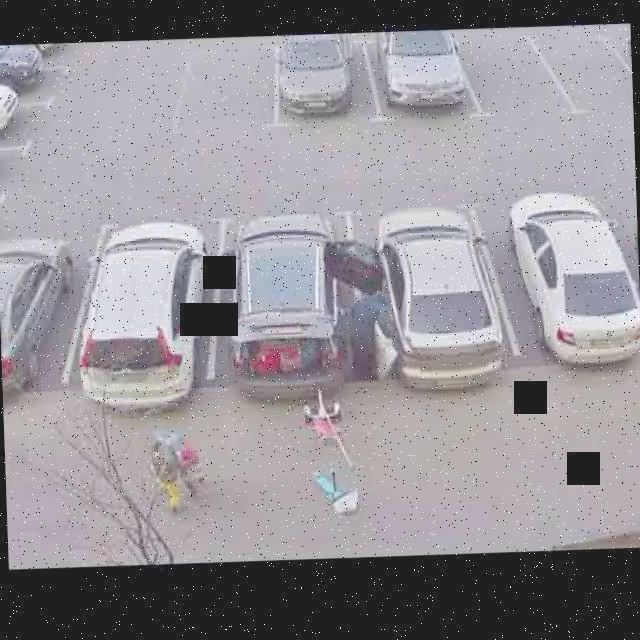space-empty: (457, 23, 567, 126), (166, 38, 282, 133), (536, 12, 634, 120)
space-occupied: (59, 203, 231, 397), (205, 190, 368, 386), (488, 176, 640, 364), (357, 195, 507, 381), (0, 220, 91, 396), (363, 30, 477, 125), (261, 32, 375, 127), (0, 55, 70, 105), (0, 95, 50, 153), (0, 136, 40, 200)
